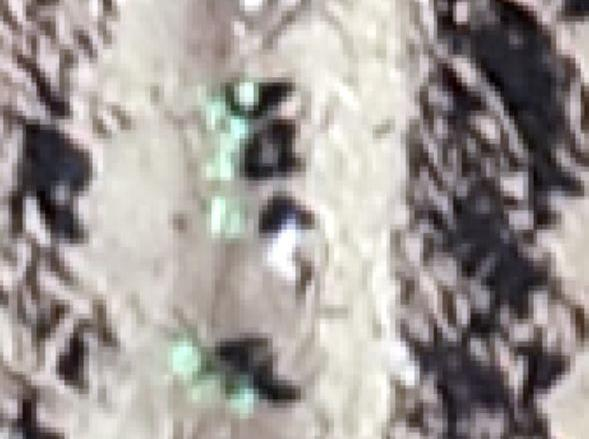cotton: (173, 338, 205, 375), (215, 198, 247, 235), (213, 136, 234, 178), (228, 379, 256, 408), (207, 96, 231, 128), (227, 116, 248, 145), (236, 82, 258, 107)
